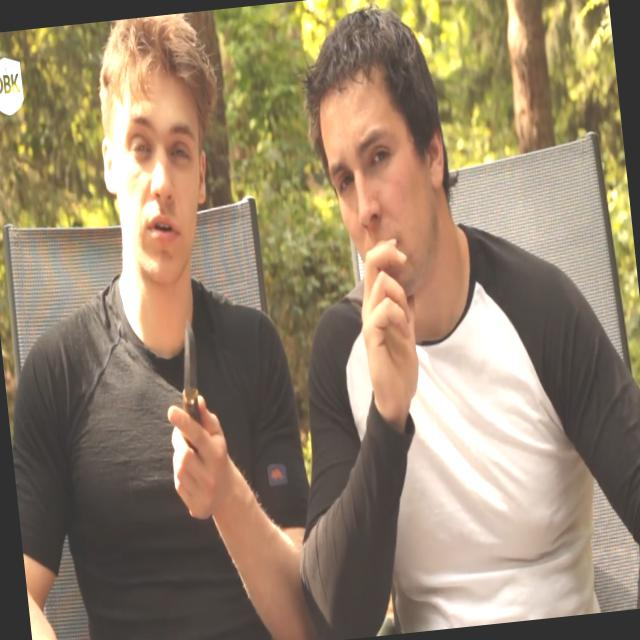knife: (148, 298, 233, 513)
